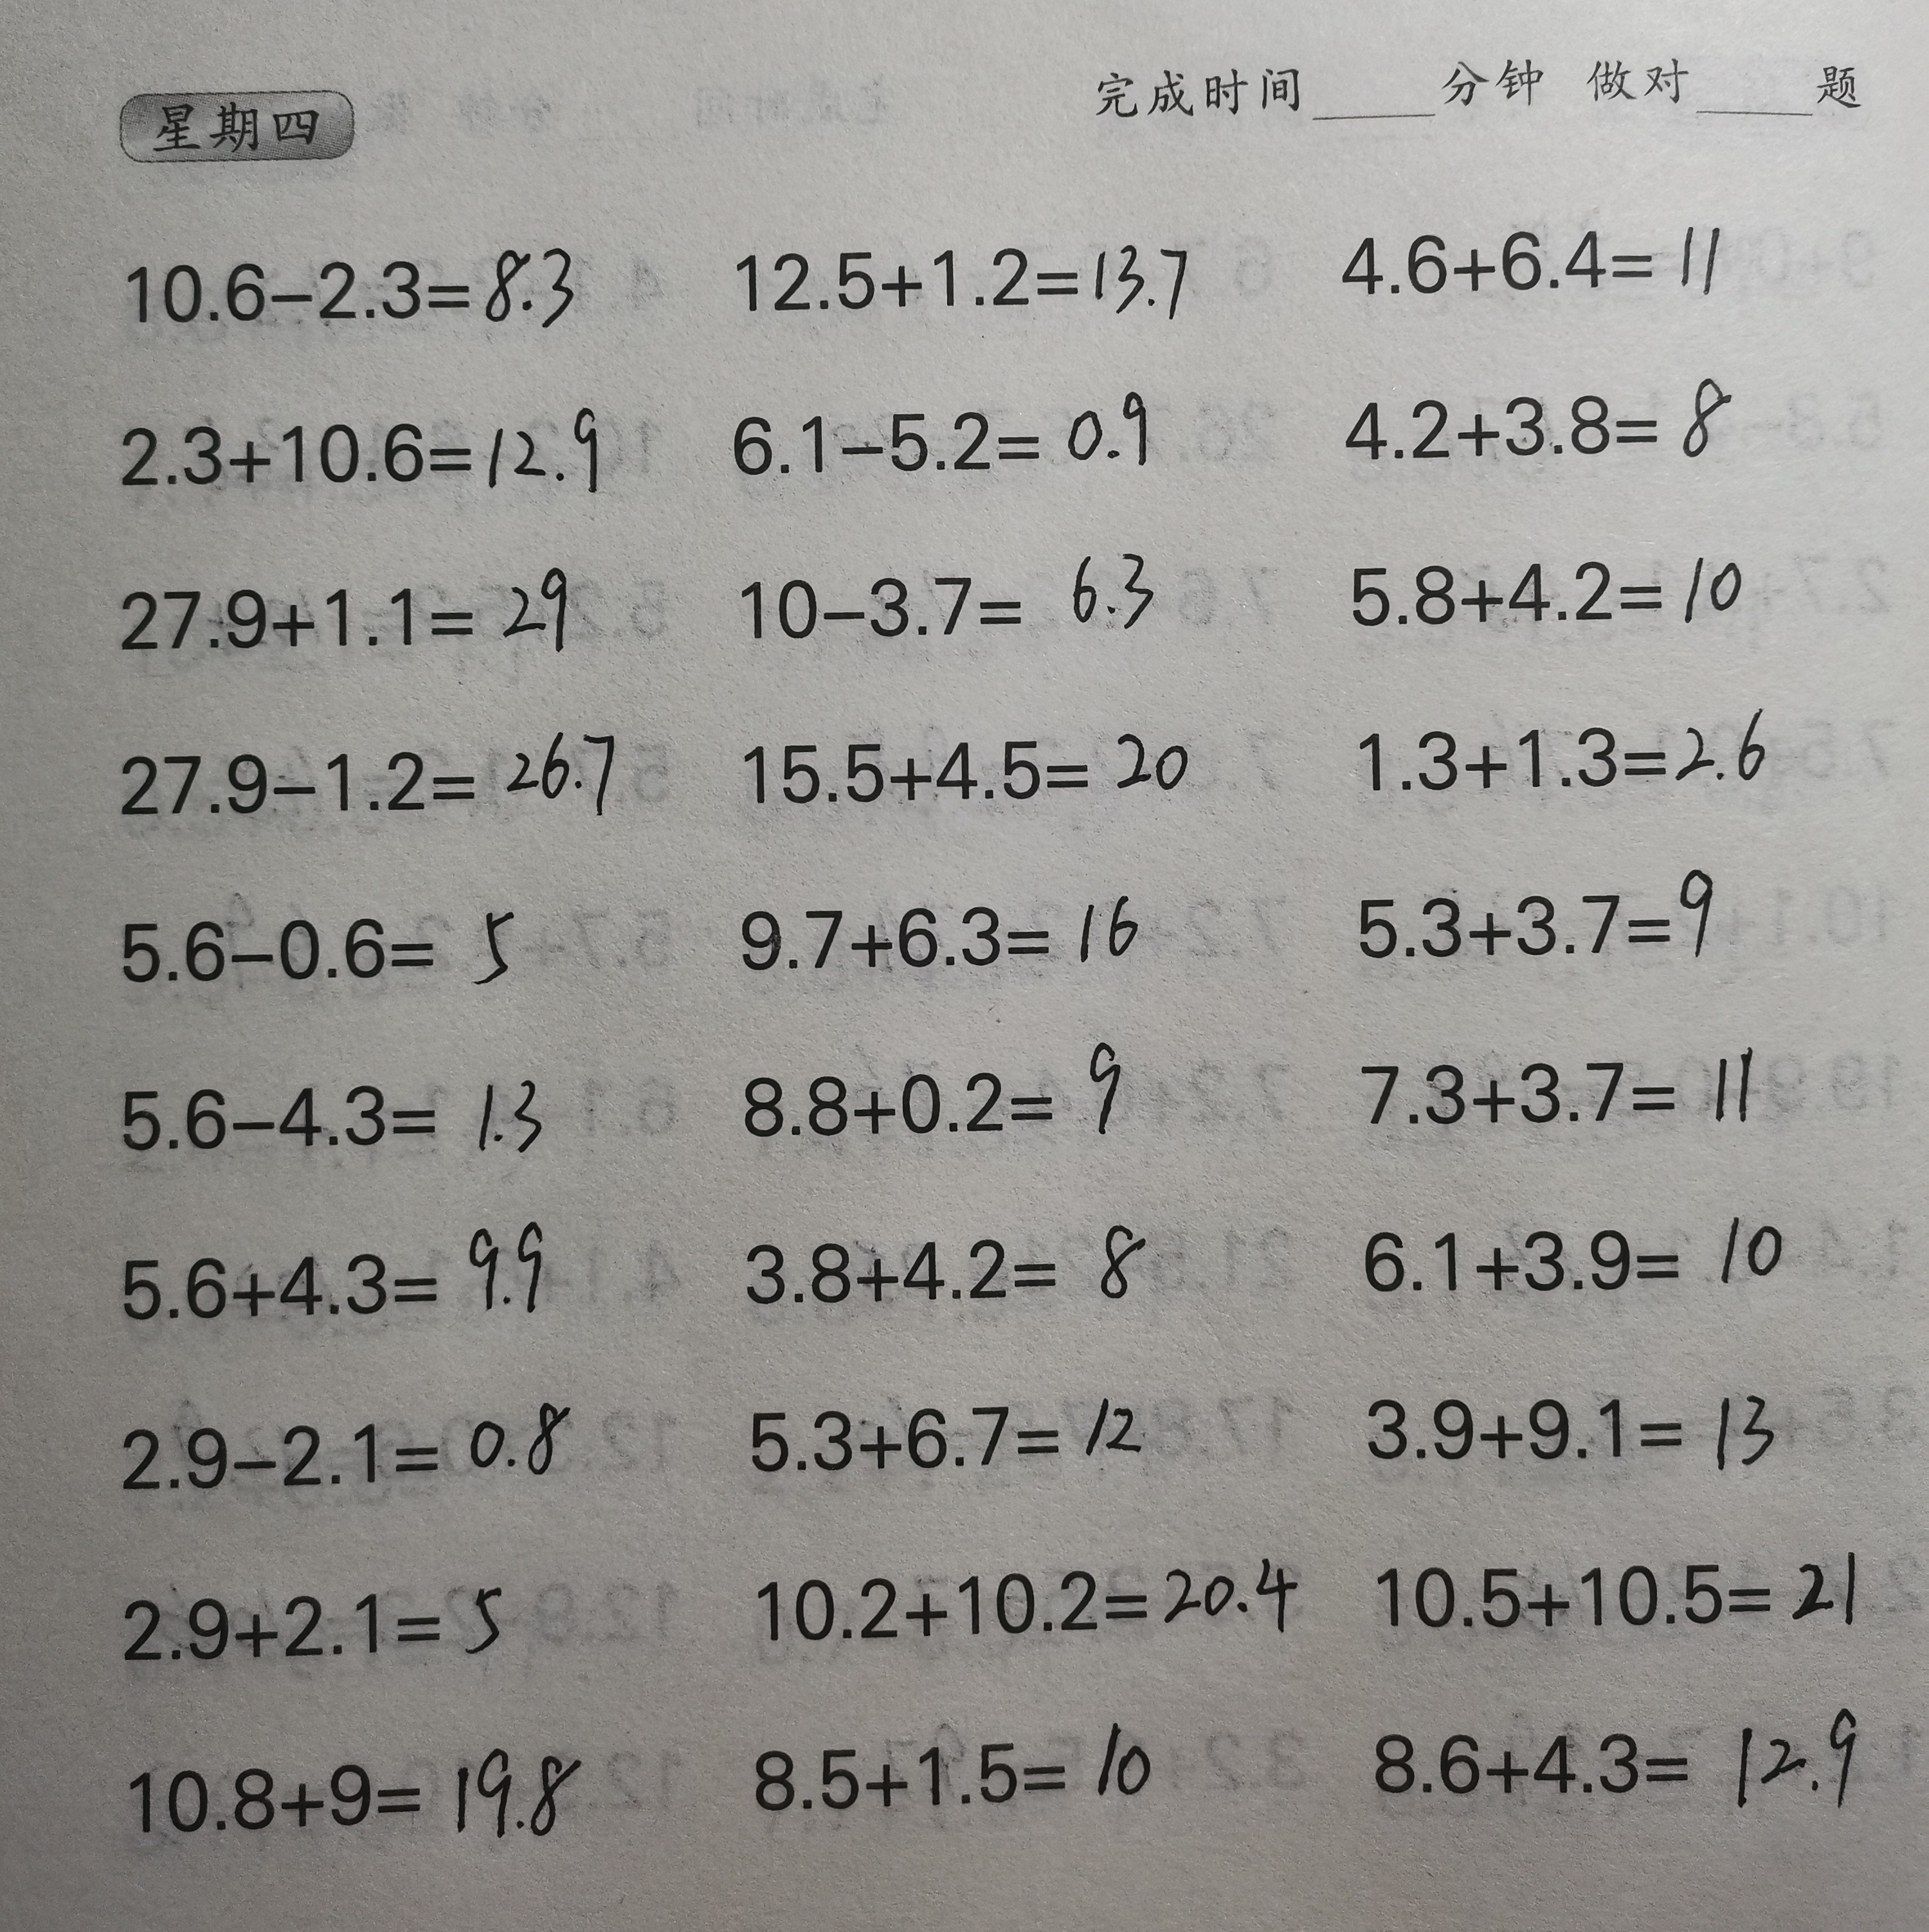equation: (1349, 1685, 1899, 1824), (96, 383, 615, 521), (105, 1374, 584, 1519), (737, 1540, 1328, 1654), (714, 694, 1222, 824), (113, 1733, 601, 1868), (1370, 1523, 1888, 1648), (111, 213, 584, 345), (729, 1364, 1185, 1499), (729, 1191, 1191, 1324), (725, 1697, 1190, 1828), (98, 717, 635, 829), (714, 862, 1171, 993), (94, 551, 590, 671), (708, 374, 1198, 494), (105, 1213, 561, 1341), (1349, 1355, 1816, 1480), (725, 1024, 1164, 1150), (716, 530, 1175, 650), (1330, 524, 1777, 646), (1349, 1191, 1820, 1306), (725, 215, 1200, 327), (1322, 186, 1731, 314), (1327, 839, 1735, 968), (1337, 702, 1784, 818), (1345, 1024, 1768, 1144), (1339, 364, 1745, 487), (98, 889, 534, 1003), (105, 1565, 542, 1679), (105, 1067, 552, 1173)
